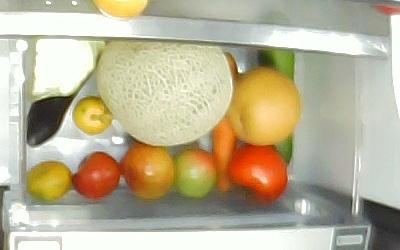cabbage: (25, 33, 99, 99)
carrot: (211, 50, 239, 195)
eggplant: (26, 48, 101, 146)
melon: (97, 38, 233, 146)
pear: (228, 68, 300, 143)
prune: (122, 145, 175, 200), (73, 153, 121, 201)
tangerine: (27, 160, 74, 202), (72, 96, 113, 135)
tomato: (229, 143, 289, 202), (173, 147, 216, 199)
zucchini: (256, 49, 296, 166)
